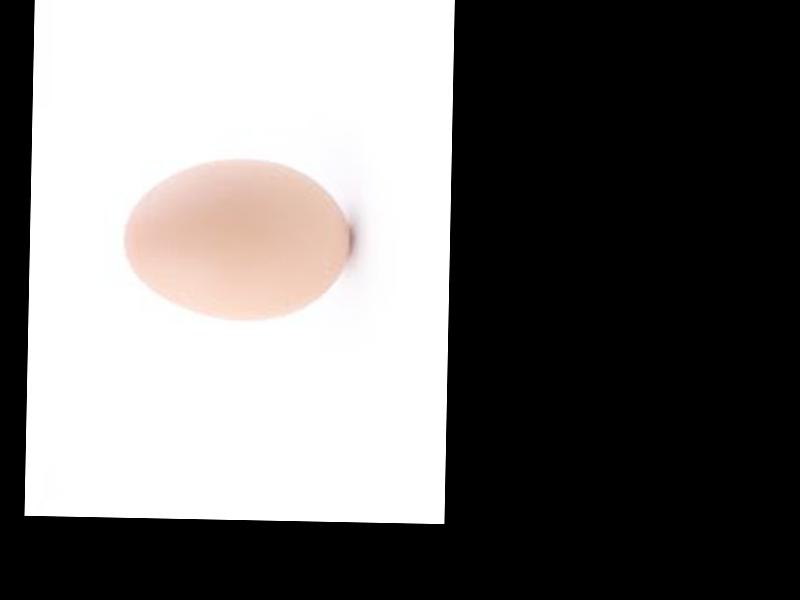Eggs: (120, 154, 350, 320)
